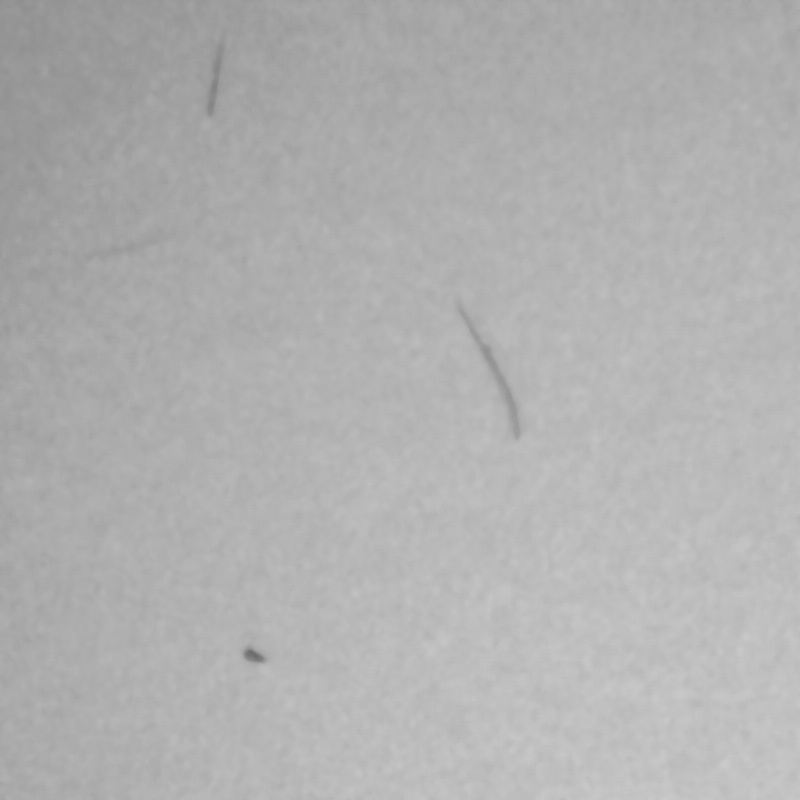defect: (451, 296, 531, 446), (199, 29, 232, 119), (238, 639, 268, 668)
